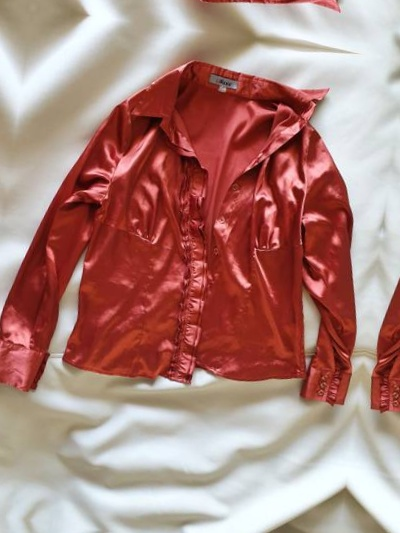Blazer: (0, 25, 395, 436), (363, 78, 400, 489), (46, 0, 400, 42), (0, 0, 19, 383)
